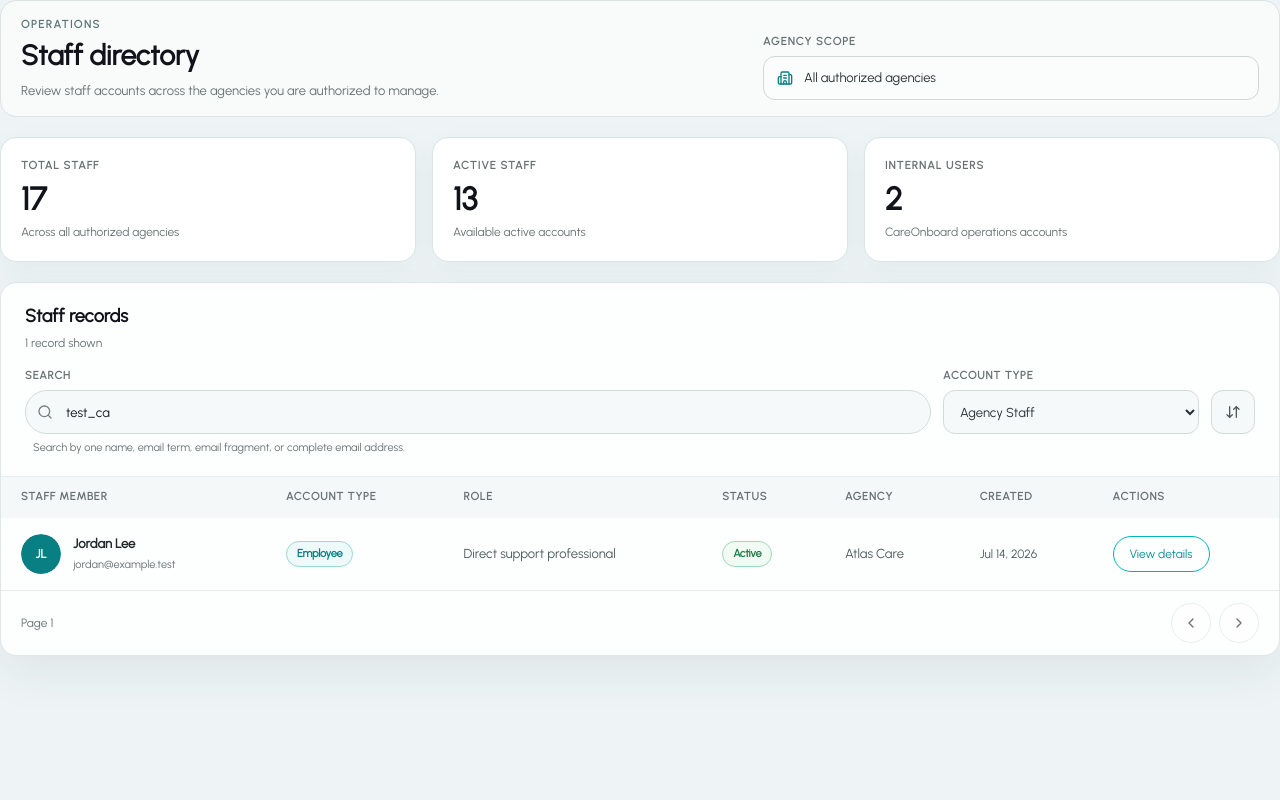
Test: super-admin staff directory › renders the read-only directory and protects its search contract
Earlier steps of the test are not shown.
Replace the text in the field named "Search staff" with "Jordan Lee@" at (478,412), box [25, 390, 931, 434]
Wait 350 ms
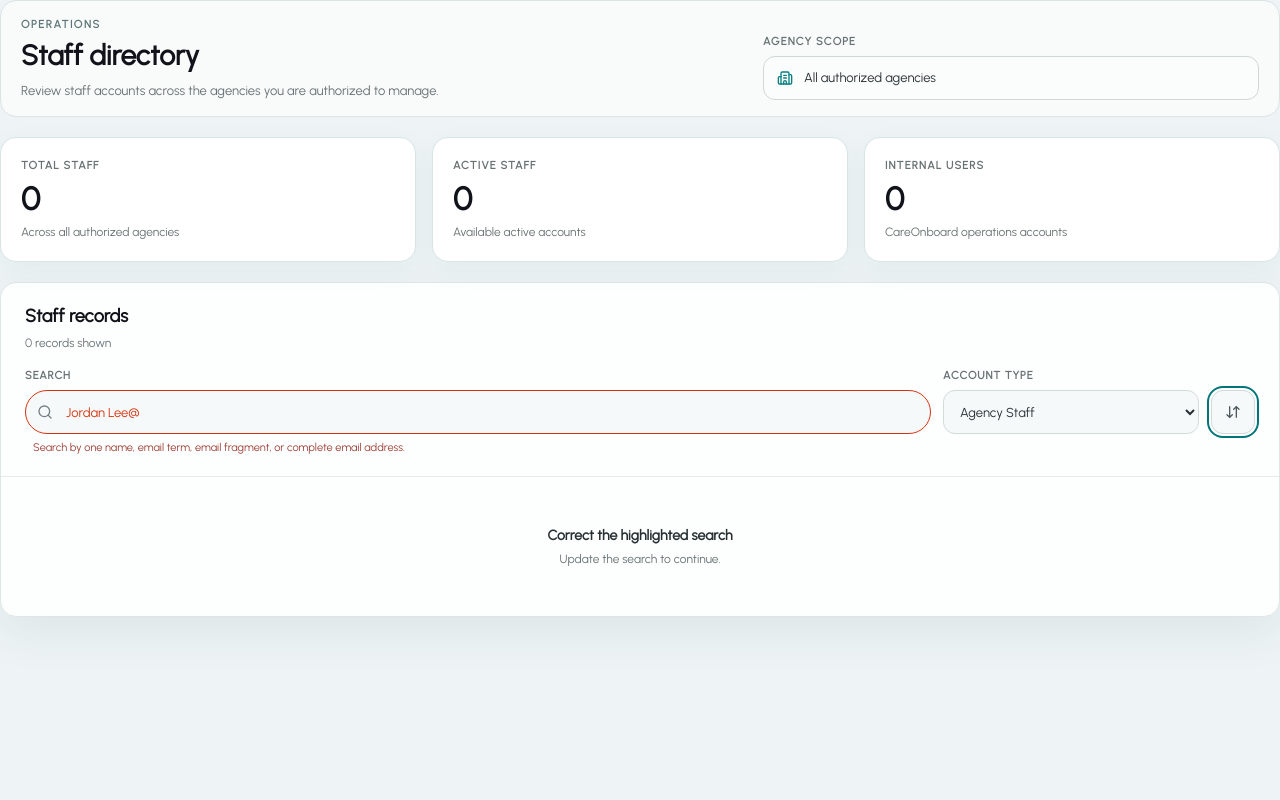
Check: the text "Search by one name, email term, email fragment, or complete email address." is shown, box [33, 441, 405, 454]
Check: the text "17" is gone
Check: the text "Page 1" is gone
